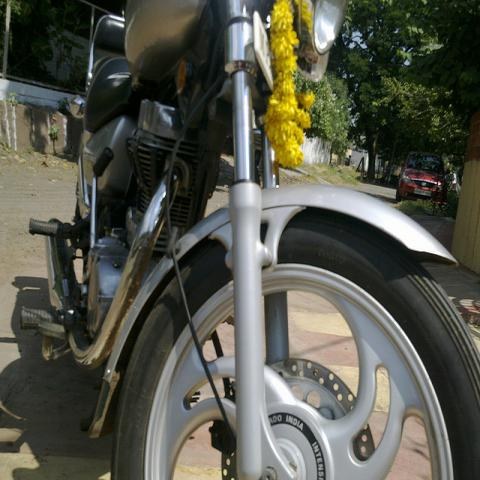car: (398, 151, 442, 202), (446, 166, 464, 206)
motorcycle: (19, 68, 479, 479), (90, 1, 348, 78)
